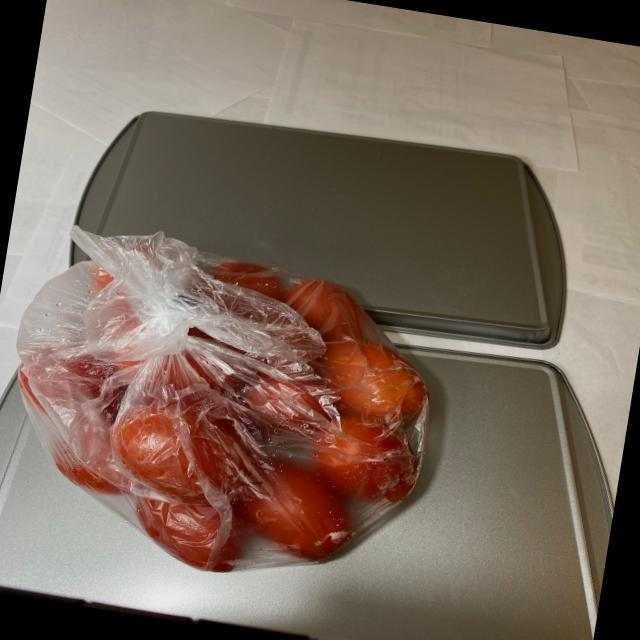tomato: (0, 224, 458, 595)
